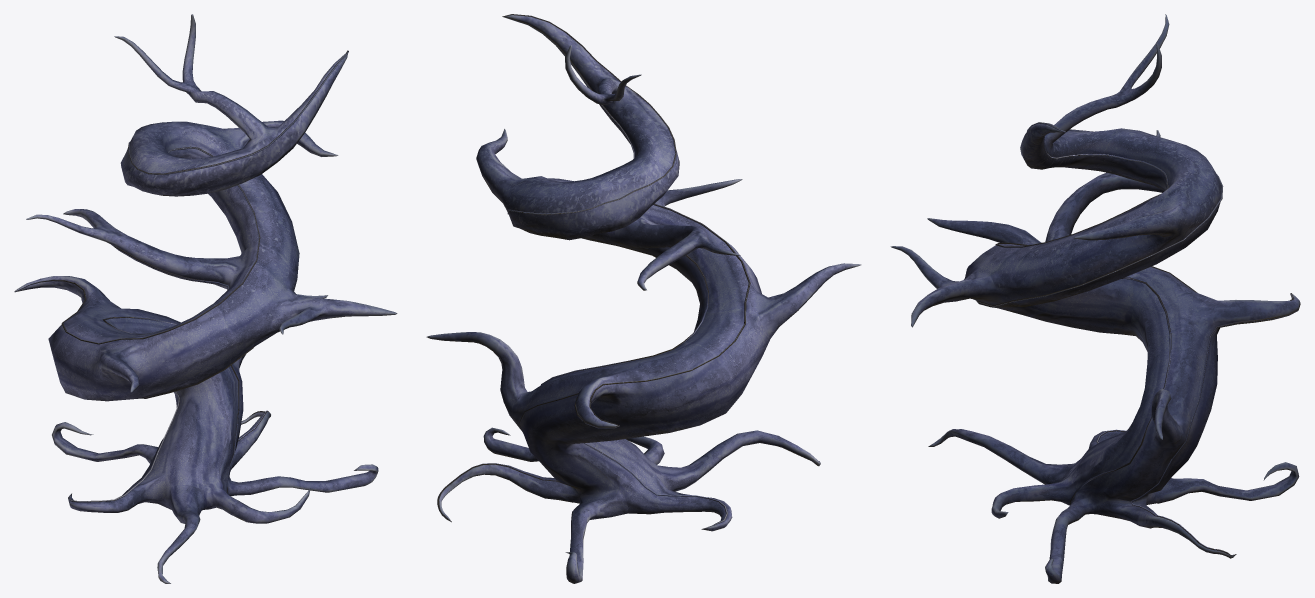
File: Tree01_Art.glb
3 views of the same model, side by side, from view 1: azimuth 30°, elevation 25°; view 2: azimuth 150°, elevation 25°; view 3: azimuth 270°, elevation 25° (orthographic). The views are drawn at different scales.
Parts seen in each view (by area): view 1: Tree01_Art; view 2: Tree01_Art; view 3: Tree01_Art.
Boxes of the visible parts, x1,y1,x2,y2 form: Tree01_Art: [14, 14, 397, 583]; Tree01_Art: [426, 14, 861, 583]; Tree01_Art: [890, 14, 1300, 583].
Bounding box in the file's own units: 58.63 × 84.13 × 64.8.
7 materials, 7 textured.
